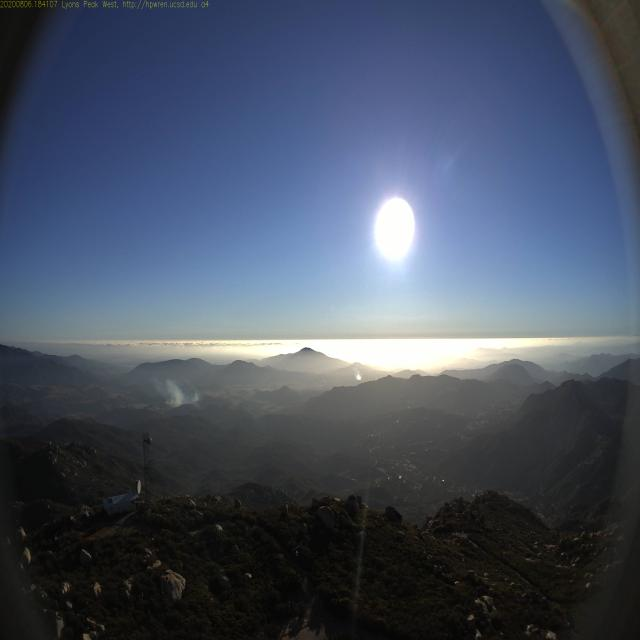smoke: (151, 376, 205, 412), (350, 361, 366, 386)
